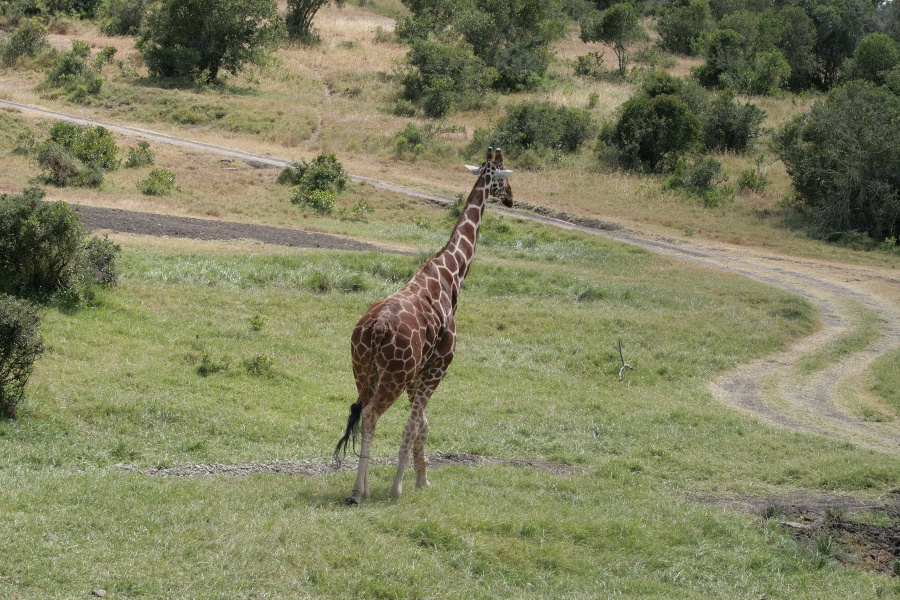giraffe: (325, 138, 526, 513)
